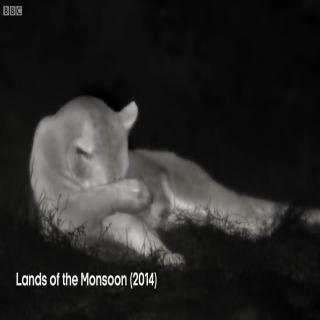Leopard: (20, 96, 320, 285)
